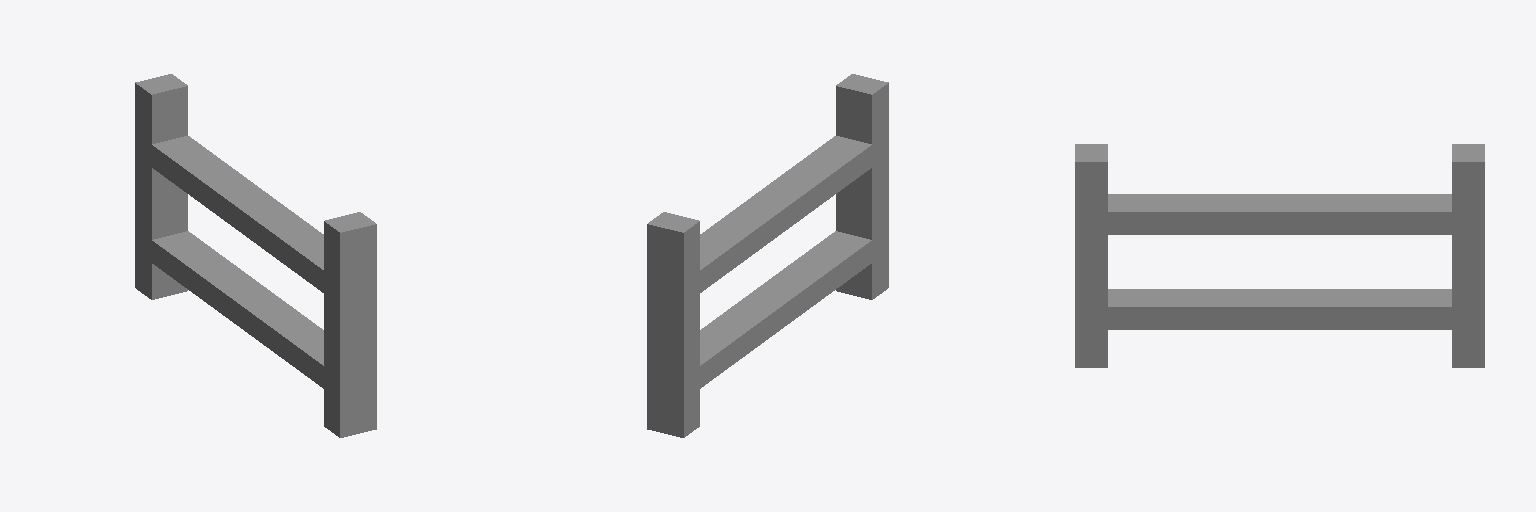
The model's file is fence.obj.
3 views of the same model, side by side, from view 1: azimuth 30°, elevation 25°; view 2: azimuth 150°, elevation 25°; view 3: azimuth 270°, elevation 25° (orthographic).
Visible parts, largest first — view 1: Untitled_ID31, ID31; view 2: Untitled_ID31, ID31, Mesh_ID17; view 3: Untitled_ID31, ID31.
Boxes of the visible parts, box(x1,y1,x2,y2) form: Untitled_ID31: box(152, 136, 376, 437); ID31: box(135, 74, 187, 299); Untitled_ID31: box(700, 74, 888, 388); ID31: box(647, 212, 699, 437); Mesh_ID17: box(647, 225, 683, 437); Untitled_ID31: box(1075, 144, 1451, 367); ID31: box(1452, 144, 1484, 367).
Size of the model in its own units: 1.18 by 6.3 by 11.42.